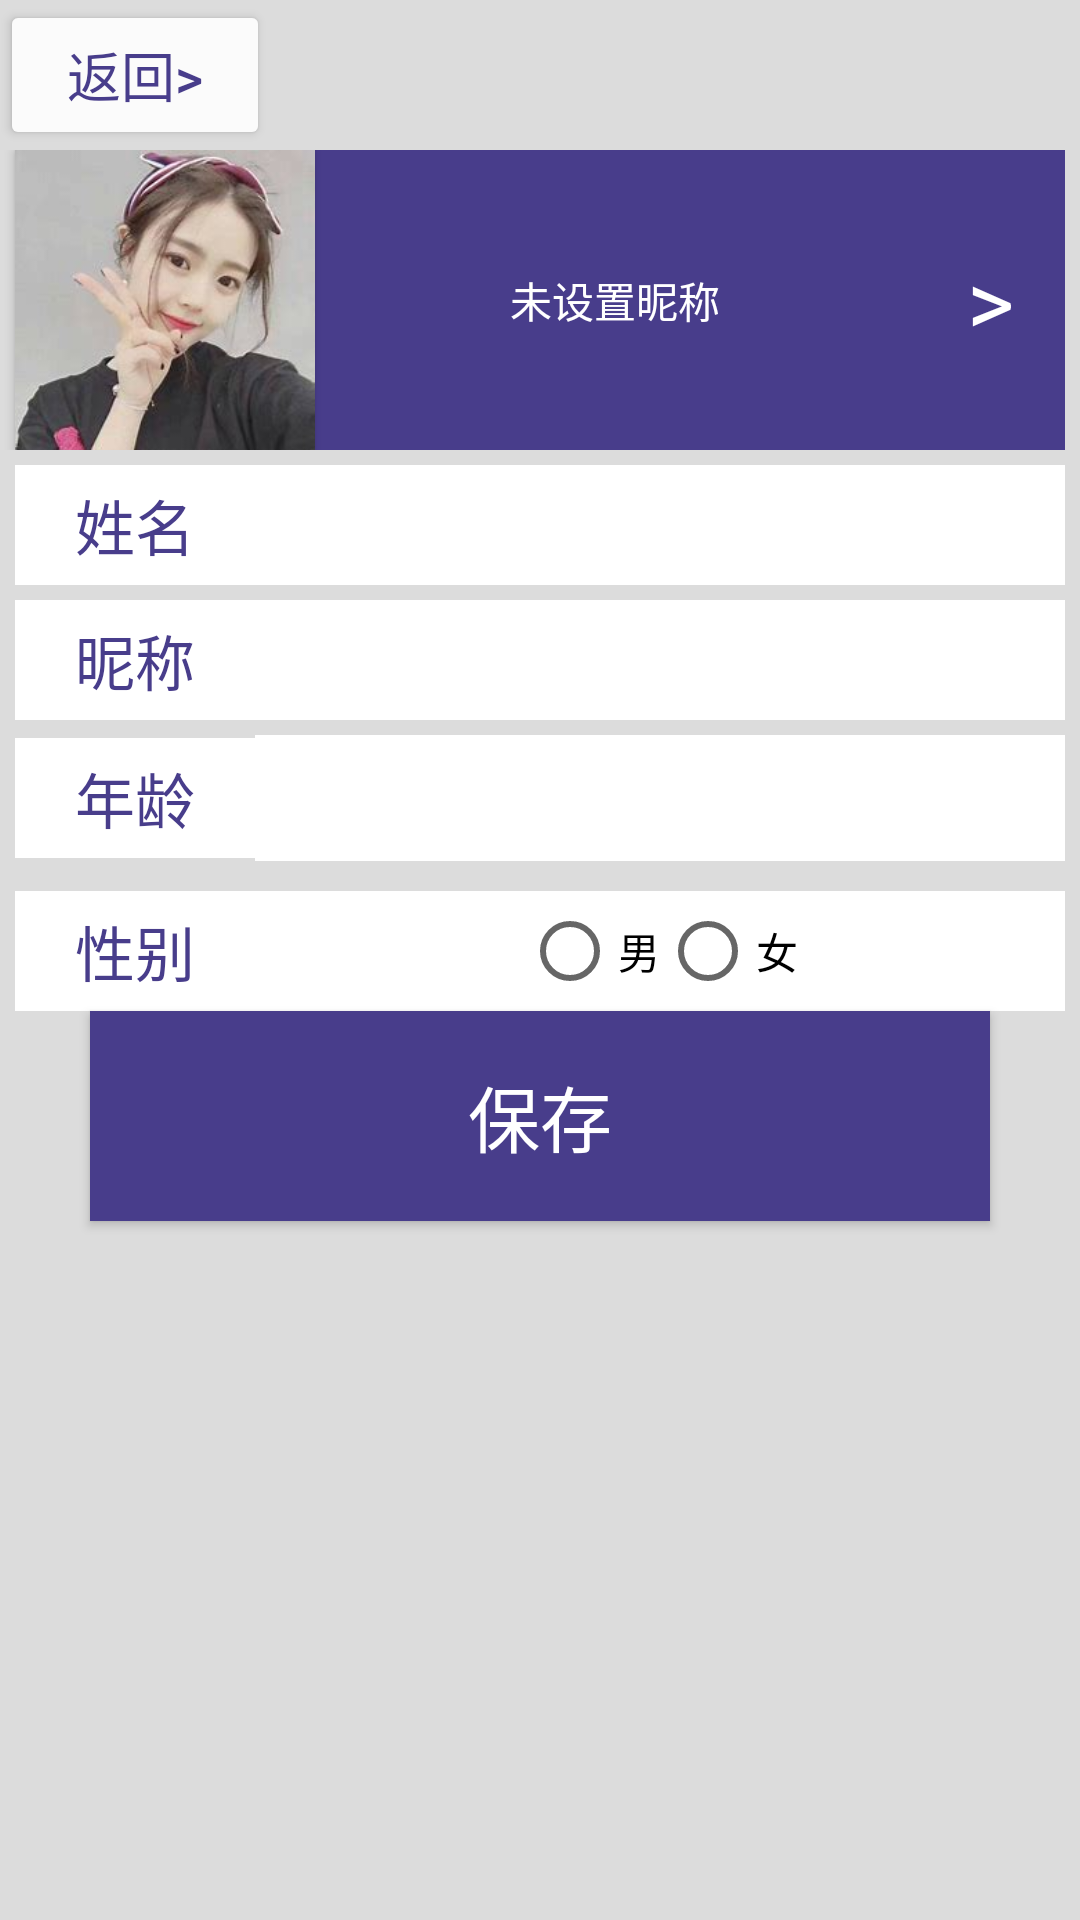

Named icons in this screenshot (1080px×1920px) and their bounding boxes, (x1, y1, x2, y2):
photo: (15, 150, 315, 450)
